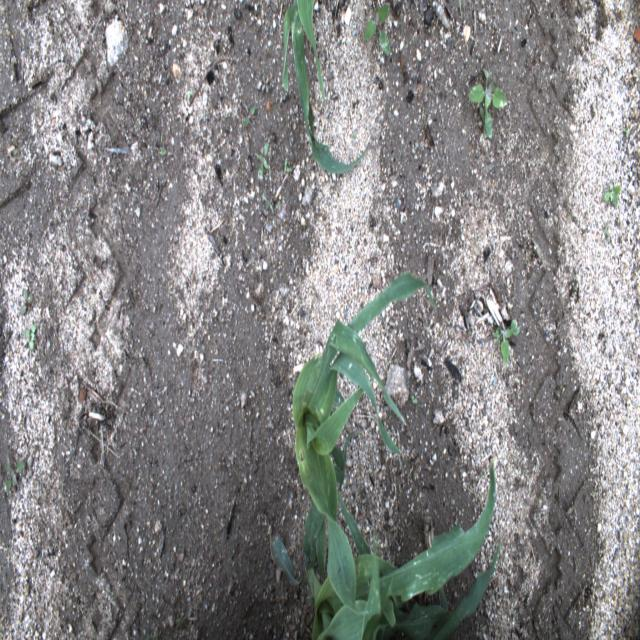crop: (270, 270, 437, 615), (309, 460, 502, 640), (282, 1, 368, 176)
weed: (468, 68, 508, 140), (363, 3, 390, 57), (494, 317, 523, 365), (4, 458, 26, 490), (255, 140, 269, 181), (604, 182, 621, 206), (19, 289, 33, 315), (24, 324, 37, 350), (479, 106, 489, 138), (242, 104, 255, 127), (262, 193, 274, 216), (12, 136, 23, 158), (602, 221, 610, 243), (261, 74, 269, 92), (284, 159, 292, 172), (622, 128, 630, 135)
